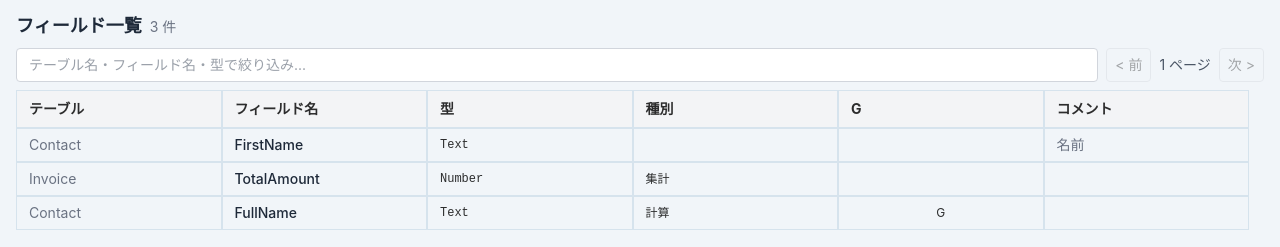
Scenario: AllFieldsPanel › filters_by_comment
The width and height of the screenshot is (1280, 247).
Type "名前" into the field with placeholder "テーブル名・フィールド名・型で絞り込み..." at point(557, 65), box [16,48,1098,82]
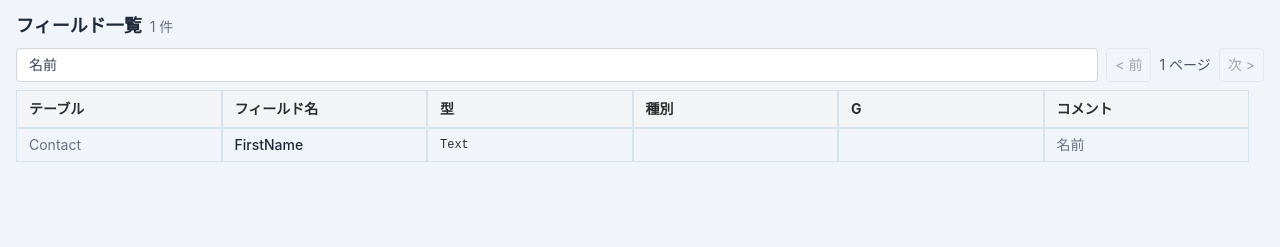
expect the text "FirstName" is shown: met, box [222,128,427,162]
expect the text "TotalAmount" is gone: met
